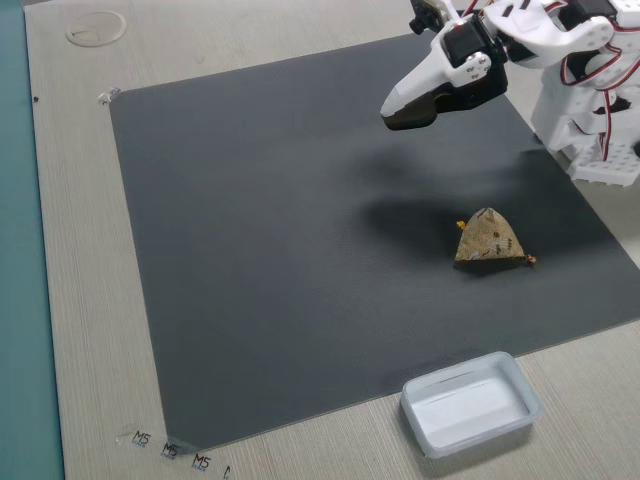objects: (371, 10, 513, 137)
